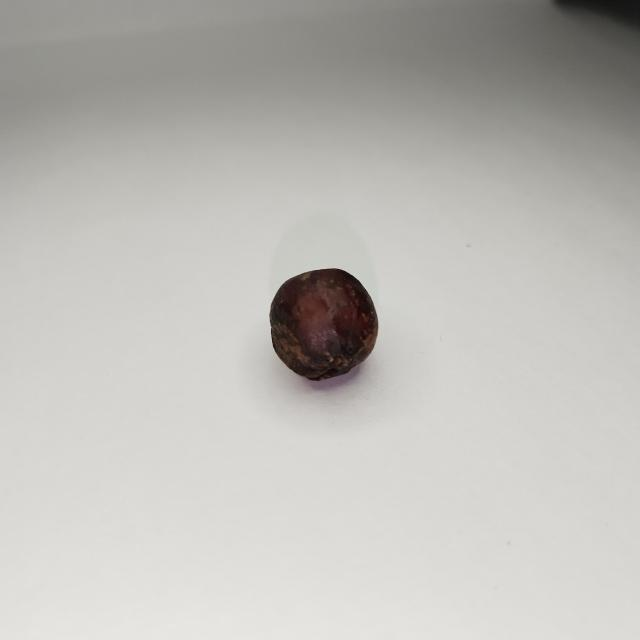Danado: (270, 269, 377, 380)
